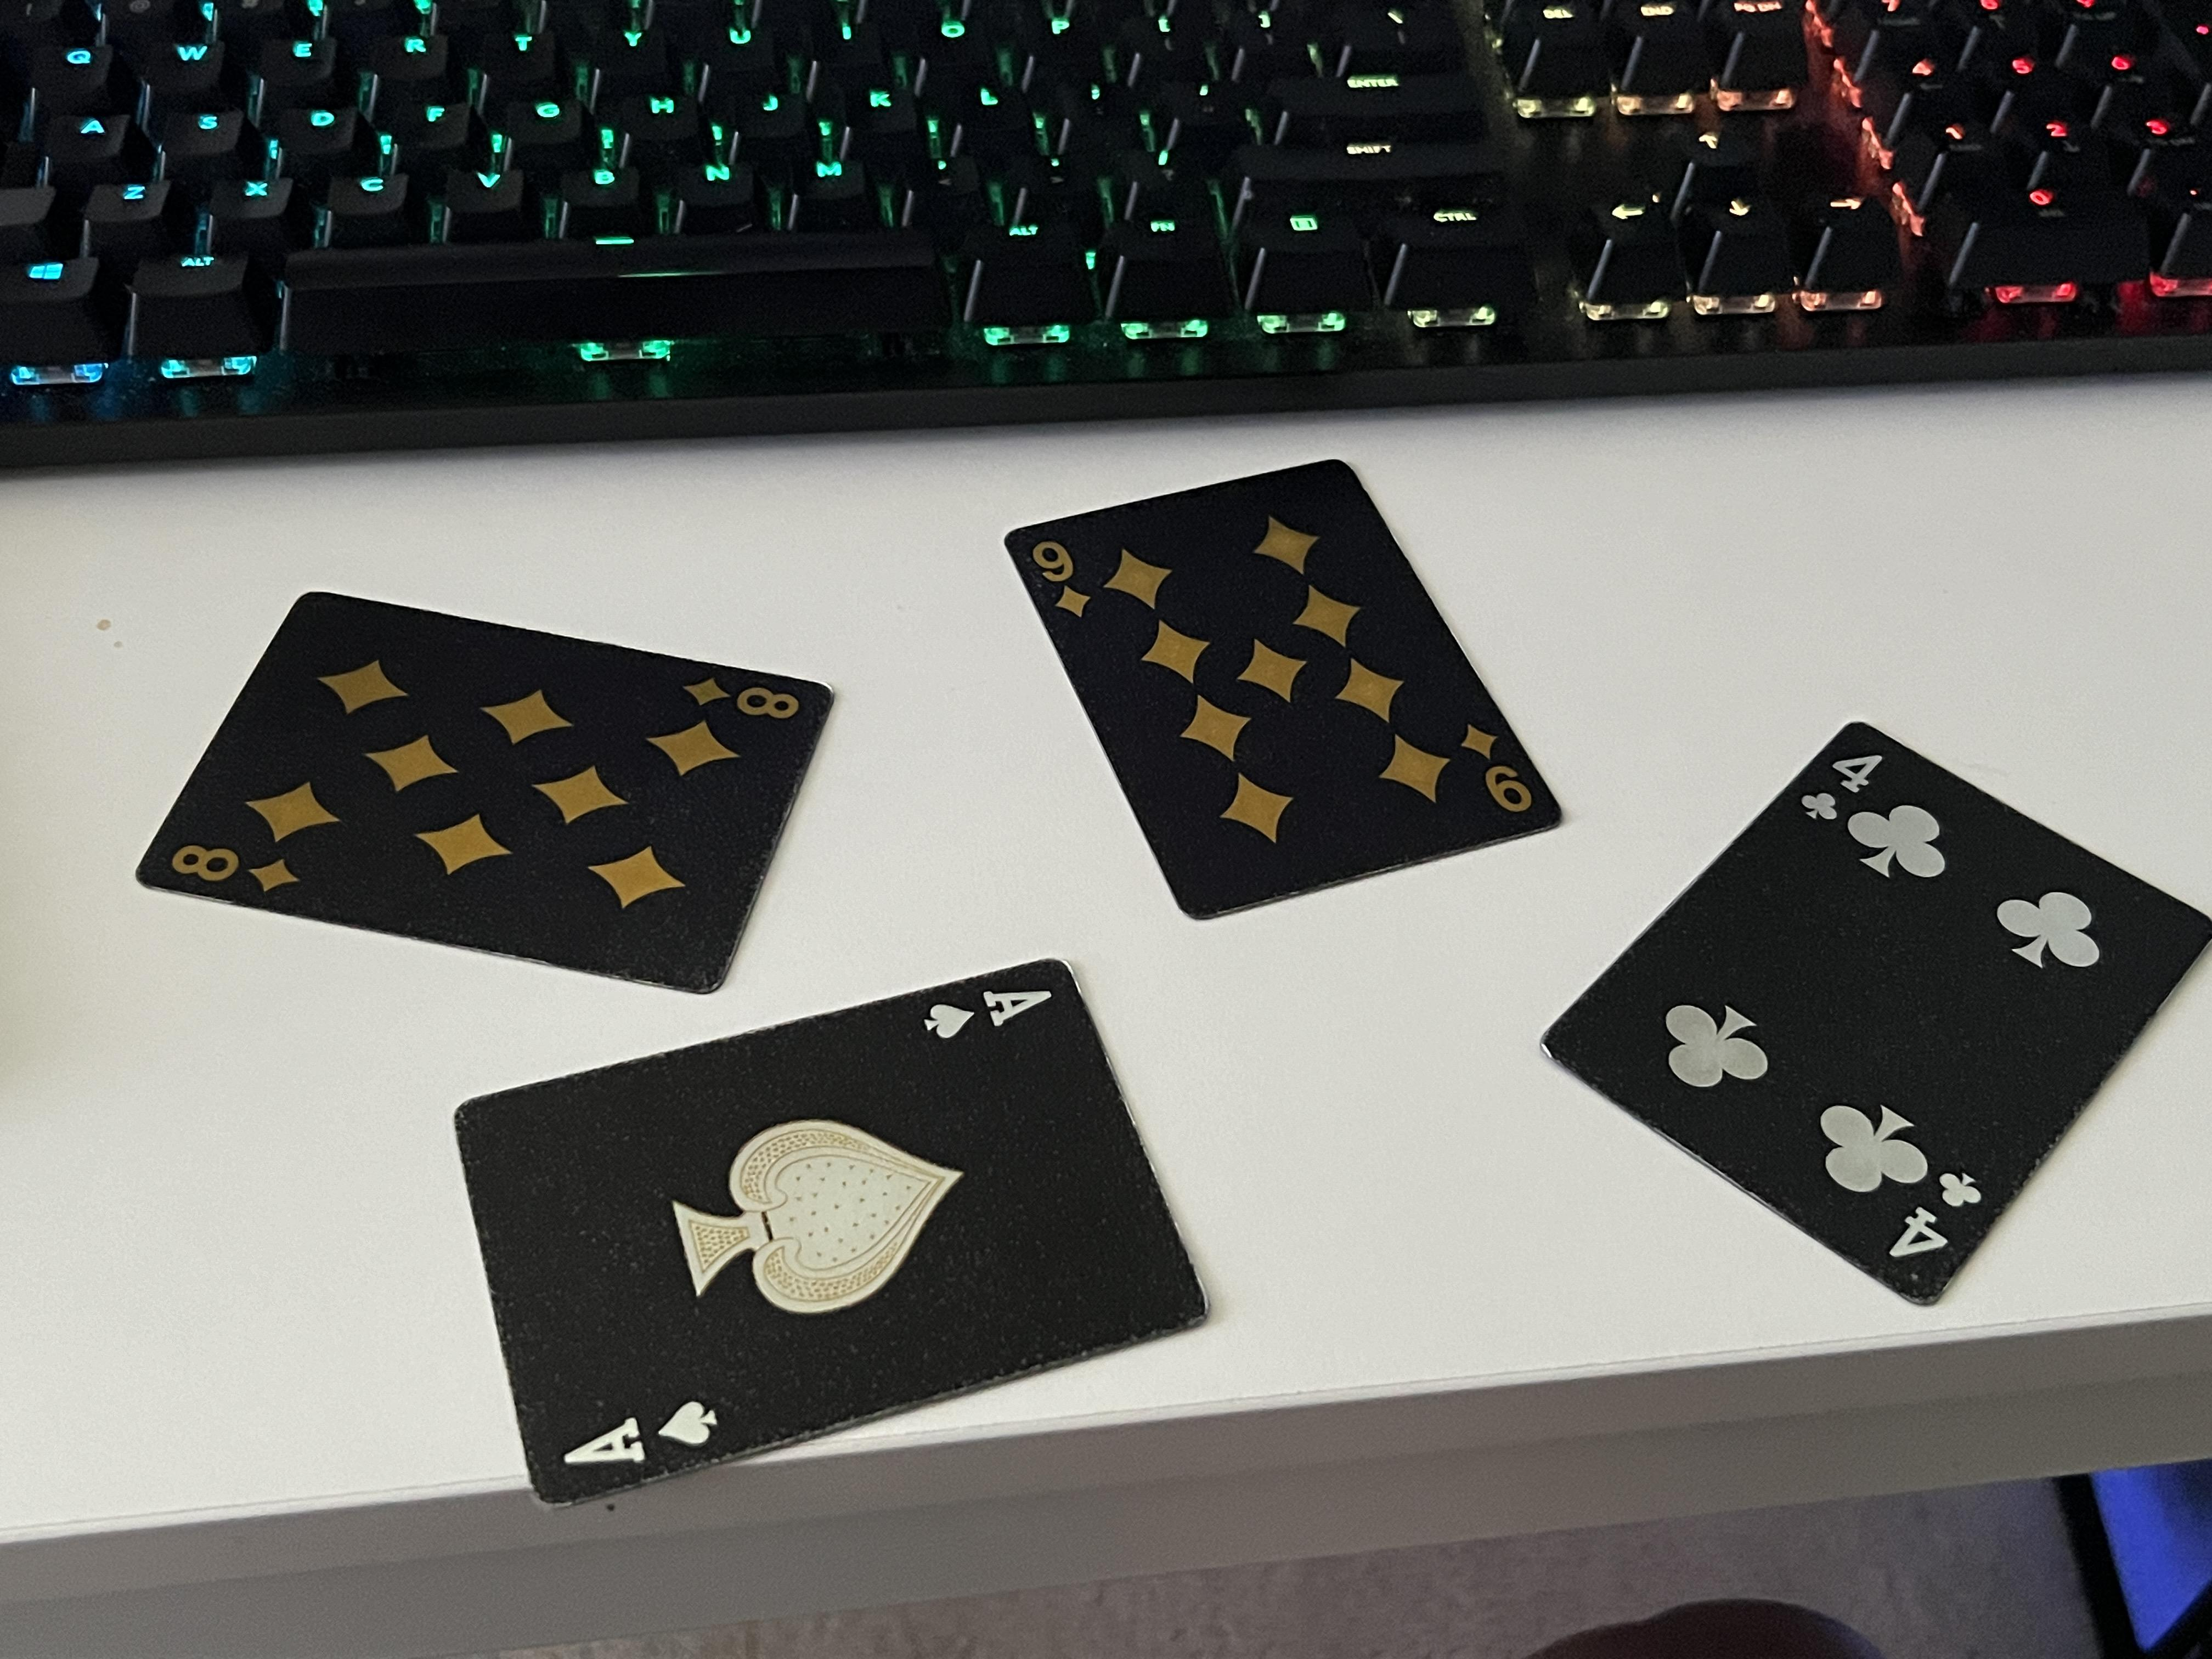4C: (1885, 1168, 1989, 1277), (1794, 746, 1890, 830)
8D: (165, 845, 314, 901), (688, 667, 812, 721)
9D: (1456, 723, 1541, 821), (1026, 537, 1111, 626)
AS: (556, 1398, 733, 1471), (916, 986, 1059, 1042)
